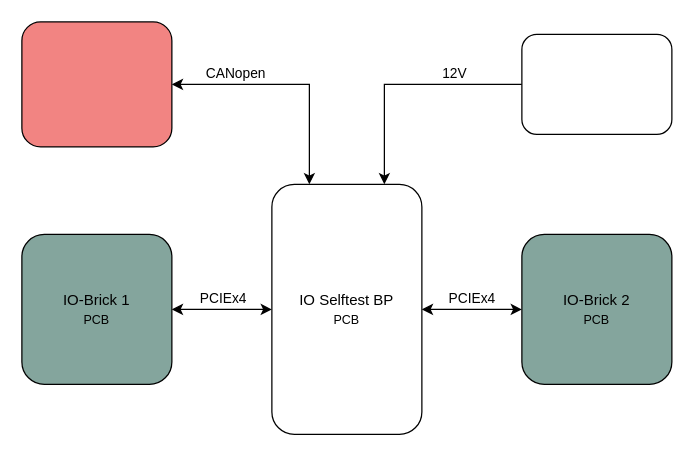
The diagram is 694 pixels wide and 456 high, and some of its shapes have lost their labels. The centre of each missing label's shape, as x and y in pixels:
Host PC/Laptop: [96,84]
Powersupply: [596,83]
